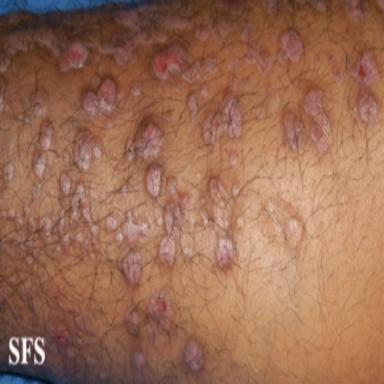Epidermolysis-Bullosa-Pruriginosa: (0, 3, 189, 72), (41, 183, 100, 256), (202, 71, 241, 145), (158, 175, 189, 266), (125, 291, 175, 344), (151, 45, 219, 83), (300, 88, 331, 155), (122, 118, 163, 167), (265, 199, 303, 248), (240, 23, 271, 74), (344, 49, 379, 85), (83, 78, 117, 114), (281, 104, 305, 153), (209, 178, 231, 230), (116, 211, 149, 245), (75, 132, 102, 171), (277, 28, 304, 63), (119, 249, 143, 286), (353, 93, 379, 126), (145, 162, 163, 197), (185, 340, 204, 371), (216, 238, 234, 268), (212, 20, 233, 43), (38, 121, 54, 151), (31, 90, 48, 117), (132, 351, 145, 384), (33, 149, 47, 179), (187, 93, 198, 122), (267, 90, 280, 113), (60, 173, 71, 197), (195, 25, 211, 41), (4, 162, 14, 185), (106, 215, 118, 231), (229, 150, 239, 169), (333, 65, 343, 82), (131, 84, 142, 98), (0, 209, 15, 219), (32, 183, 41, 199), (201, 210, 209, 227), (200, 85, 209, 98), (233, 185, 240, 197), (237, 217, 244, 229)
